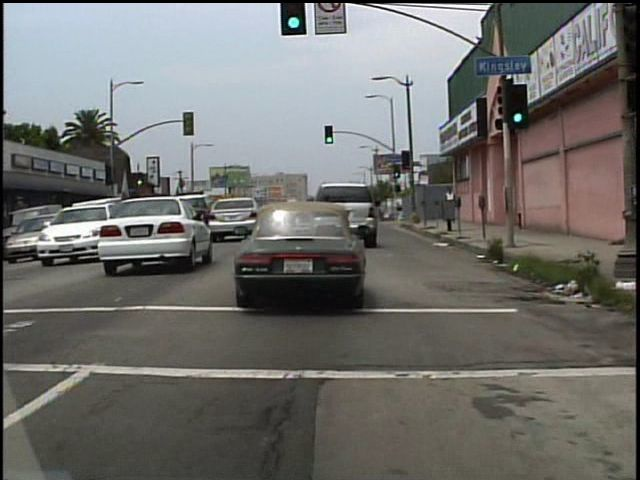person: (444, 185, 459, 223)
